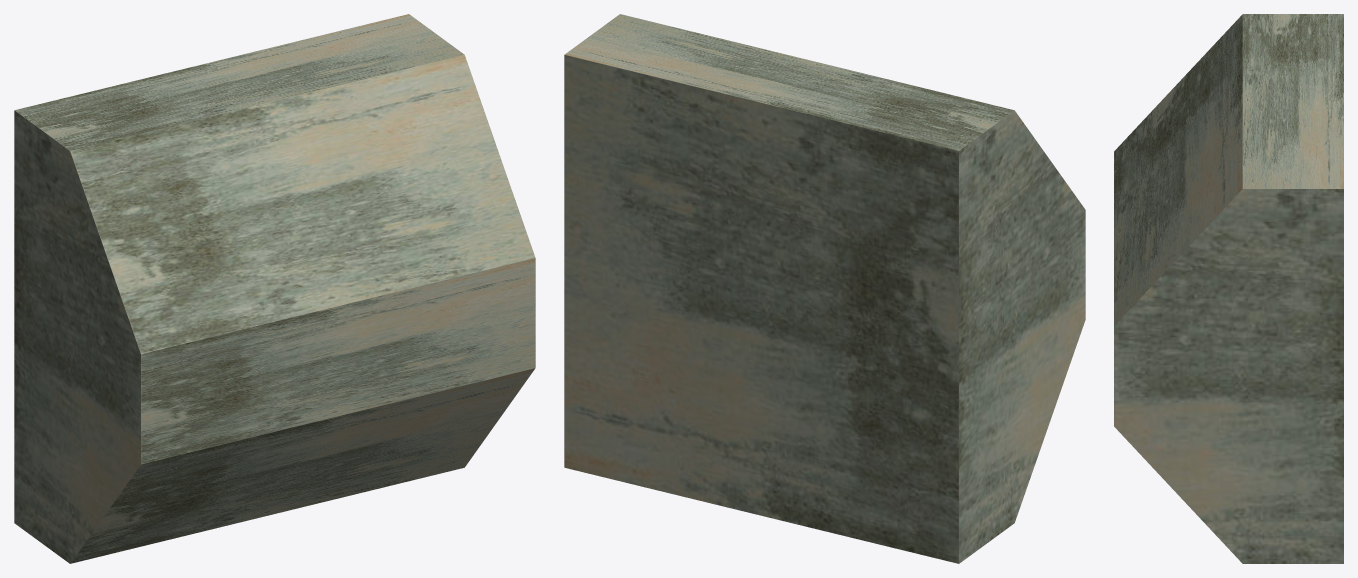
File: roof_concrete.glb
3 renders of one model, left to right at view 1: azimuth 30°, elevation 25°; view 2: azimuth 150°, elevation 25°; view 3: azimuth 270°, elevation 25°, orthographic. The views are drawn at different scales.
Parts seen in each view (by area): view 1: roof; view 2: roof; view 3: roof.
Boxes of the visible parts, box(x1,y1,x2,y2) form: roof: box(14, 14, 535, 563); roof: box(564, 14, 1085, 563); roof: box(1114, 14, 1343, 563).
Size of the model in its own units: 0.9 by 0.9 by 0.5.
Materials: 1 (1 with a texture image).
